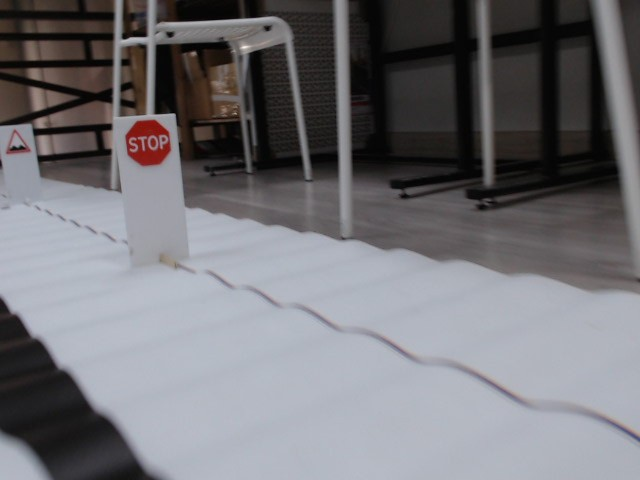Stop: (125, 119, 172, 164)
